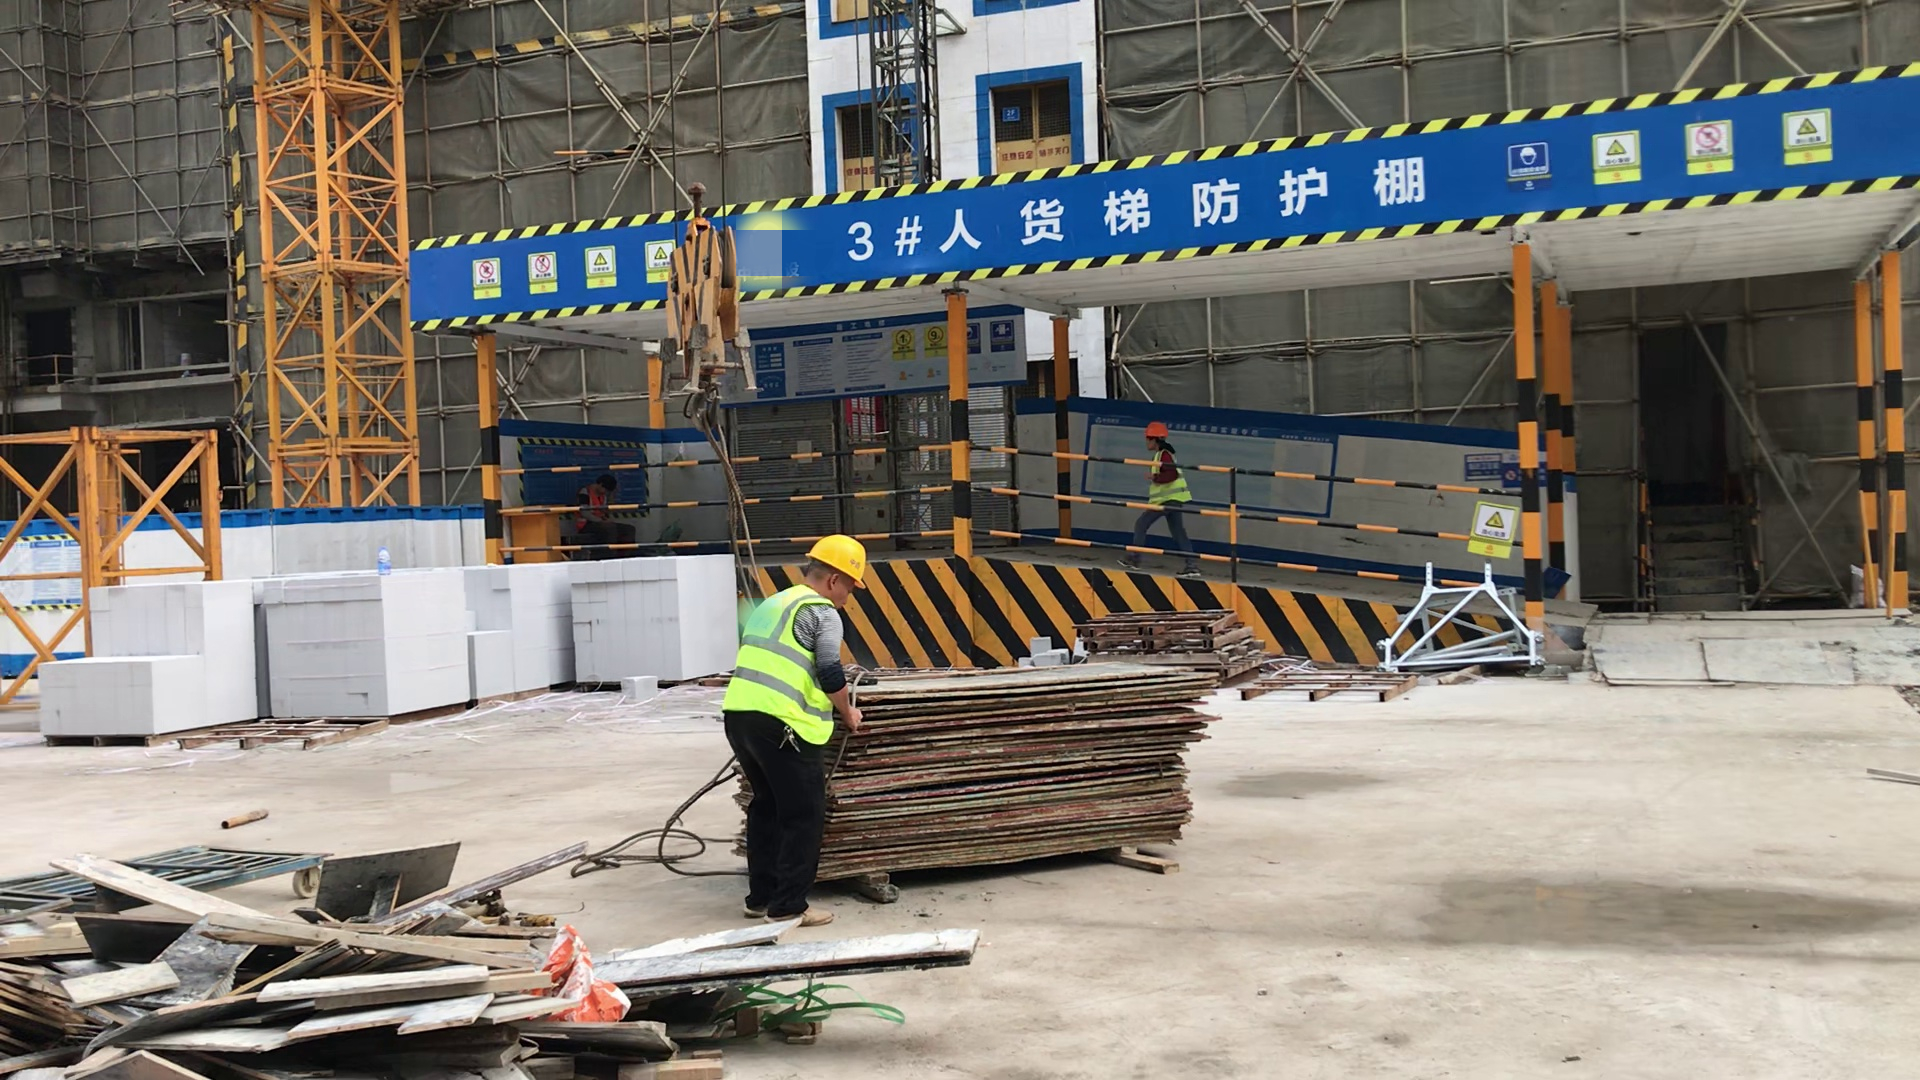board: (841, 668, 1227, 884)
brick: (257, 572, 561, 719), (27, 587, 263, 743), (569, 556, 734, 686)
ebox: (504, 505, 557, 564)
handcart: (1, 841, 326, 919)
helmet: (799, 533, 869, 587), (1145, 420, 1168, 444)
hook: (657, 172, 743, 427)
person: (716, 535, 873, 925), (1134, 418, 1201, 582), (572, 472, 636, 546)
slogan: (829, 154, 1434, 262), (1499, 100, 1861, 199), (467, 251, 670, 293), (1464, 493, 1520, 571)
vest: (728, 588, 837, 739), (1150, 450, 1191, 506), (577, 486, 605, 525)
